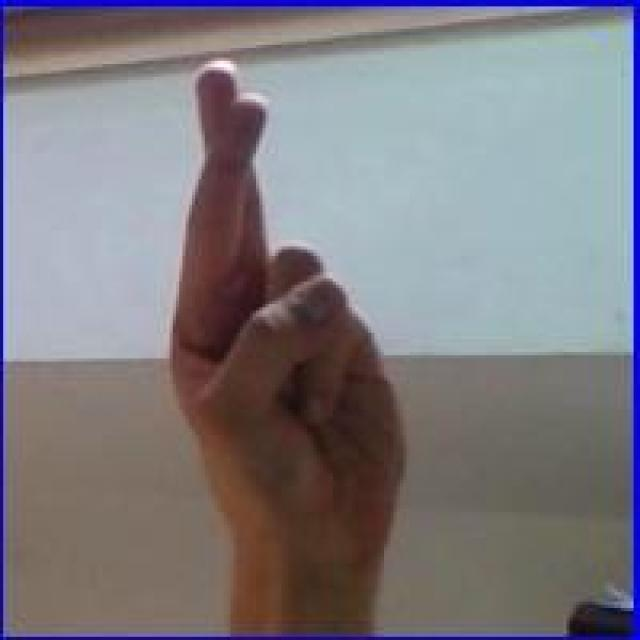R: (165, 53, 414, 584)
